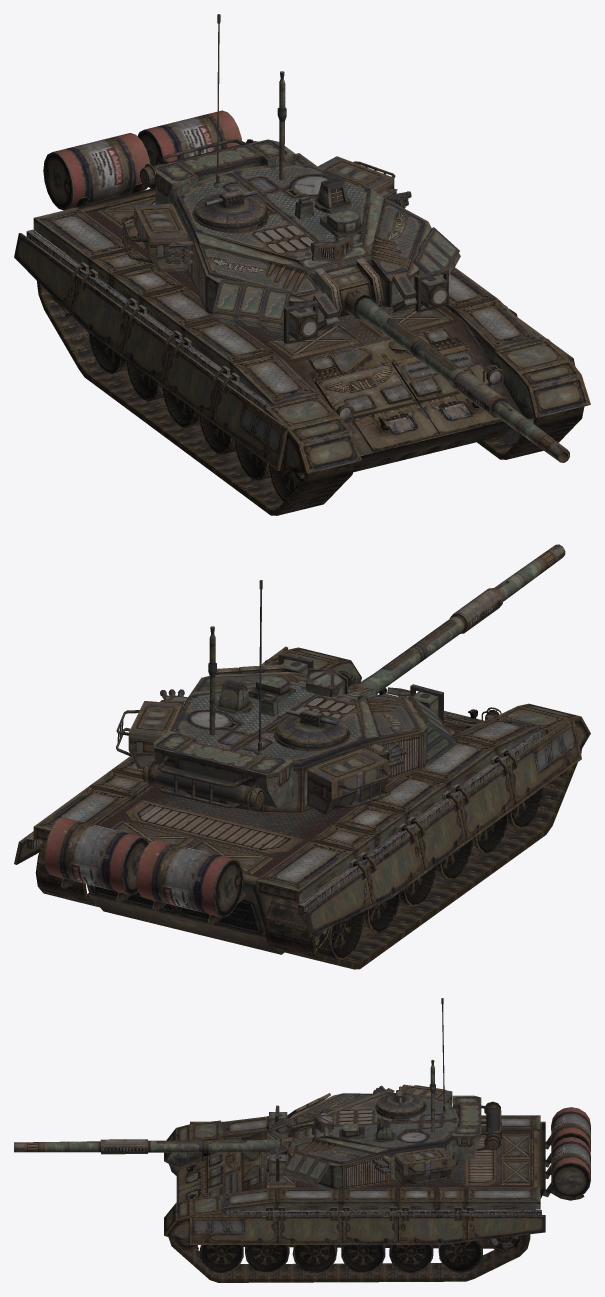
File: battle_tank.fbx
3 views of the same model, one above another, from view 1: azimuth 30°, elevation 25°; view 2: azimuth 150°, elevation 25°; view 3: azimuth 270°, elevation 25° (orthographic). The views are drawn at different scales.
Parts seen in each view (by area): view 1: polySurface12869, Final_scene3:battle_lowpoly:polySurface10281, polySurface12922, polySurface12951_DUP, polySurface12949_DUP, polySurface12950_DUP, polySurface12956, polySurface12855, polySurface12853, polySurface12856, polySurface12854, polySurface12857; view 2: polySurface12869, Final_scene3:battle_lowpoly:polySurface10281, polySurface12922, polySurface12951_DUP, polySurface12950_DUP, polySurface12949_DUP, polySurface12853, polySurface12956, polySurface12854, polySurface12857, polySurface12856, polySurface12855 (+1 smaller); view 3: polySurface12869, Final_scene3:battle_lowpoly:polySurface10281, polySurface12956, polySurface12951_DUP, polySurface12949_DUP, polySurface12950_DUP, polySurface12867, polySurface12864, polySurface12865, polySurface12863, polySurface12866, polySurface12861 (+1 smaller).
Part boxes in pixels (x1=…): polySurface12869: x1=14, y1=110, x2=590, y2=473; Final_scene3:battle_lowpoly:polySurface10281: x1=121, y1=14, x2=460, y2=343; polySurface12922: x1=37, y1=254, x2=354, y2=515; polySurface12951_DUP: x1=97, y1=197, x2=452, y2=359; polySurface12949_DUP: x1=344, y1=287, x2=464, y2=385; polySurface12950_DUP: x1=454, y1=371, x2=569, y2=462; polySurface12956: x1=477, y1=406, x2=584, y2=459; polySurface12855: x1=162, y1=387, x2=199, y2=427; polySurface12853: x1=89, y1=333, x2=127, y2=374; polySurface12856: x1=198, y1=413, x2=235, y2=454; polySurface12854: x1=126, y1=360, x2=163, y2=401; polySurface12857: x1=234, y1=440, x2=270, y2=480; polySurface12869: x1=14, y1=646, x2=590, y2=954; Final_scene3:battle_lowpoly:polySurface10281: x1=116, y1=580, x2=455, y2=814; polySurface12922: x1=265, y1=732, x2=581, y2=969; polySurface12951_DUP: x1=110, y1=728, x2=454, y2=874; polySurface12950_DUP: x1=449, y1=544, x2=565, y2=633; polySurface12949_DUP: x1=348, y1=615, x2=465, y2=694; polySurface12853: x1=317, y1=911, x2=364, y2=959; polySurface12956: x1=35, y1=841, x2=99, y2=907; polySurface12854: x1=362, y1=892, x2=400, y2=932; polySurface12857: x1=471, y1=813, x2=509, y2=853; polySurface12856: x1=435, y1=839, x2=473, y2=879; polySurface12855: x1=399, y1=865, x2=436, y2=906; polySurface12869: x1=164, y1=1107, x2=590, y2=1248; Final_scene3:battle_lowpoly:polySurface10281: x1=266, y1=998, x2=502, y2=1191; polySurface12956: x1=168, y1=1209, x2=530, y2=1282; polySurface12951_DUP: x1=266, y1=1132, x2=529, y2=1187; polySurface12949_DUP: x1=148, y1=1136, x2=293, y2=1154; polySurface12950_DUP: x1=14, y1=1139, x2=147, y2=1154; polySurface12867: x1=438, y1=1240, x2=482, y2=1272; polySurface12864: x1=292, y1=1245, x2=337, y2=1273; polySurface12865: x1=341, y1=1245, x2=385, y2=1272; polySurface12863: x1=245, y1=1245, x2=289, y2=1273; polySurface12866: x1=389, y1=1245, x2=433, y2=1272; polySurface12861: x1=199, y1=1245, x2=243, y2=1272.
Bounding box in the file's own units: 194 × 213 × 478.
